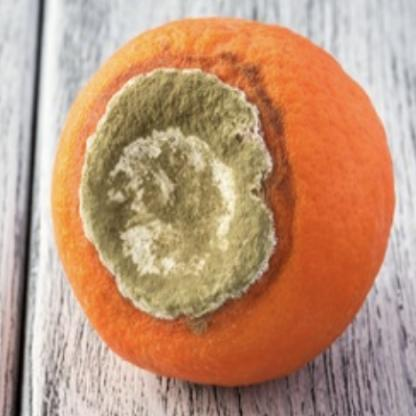rotten: (56, 21, 392, 403)
